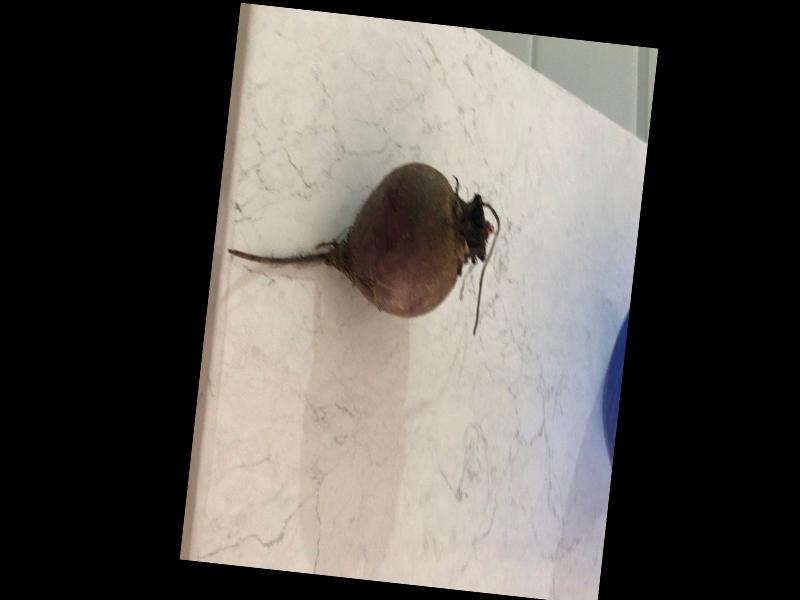Beet: (222, 144, 506, 338)
